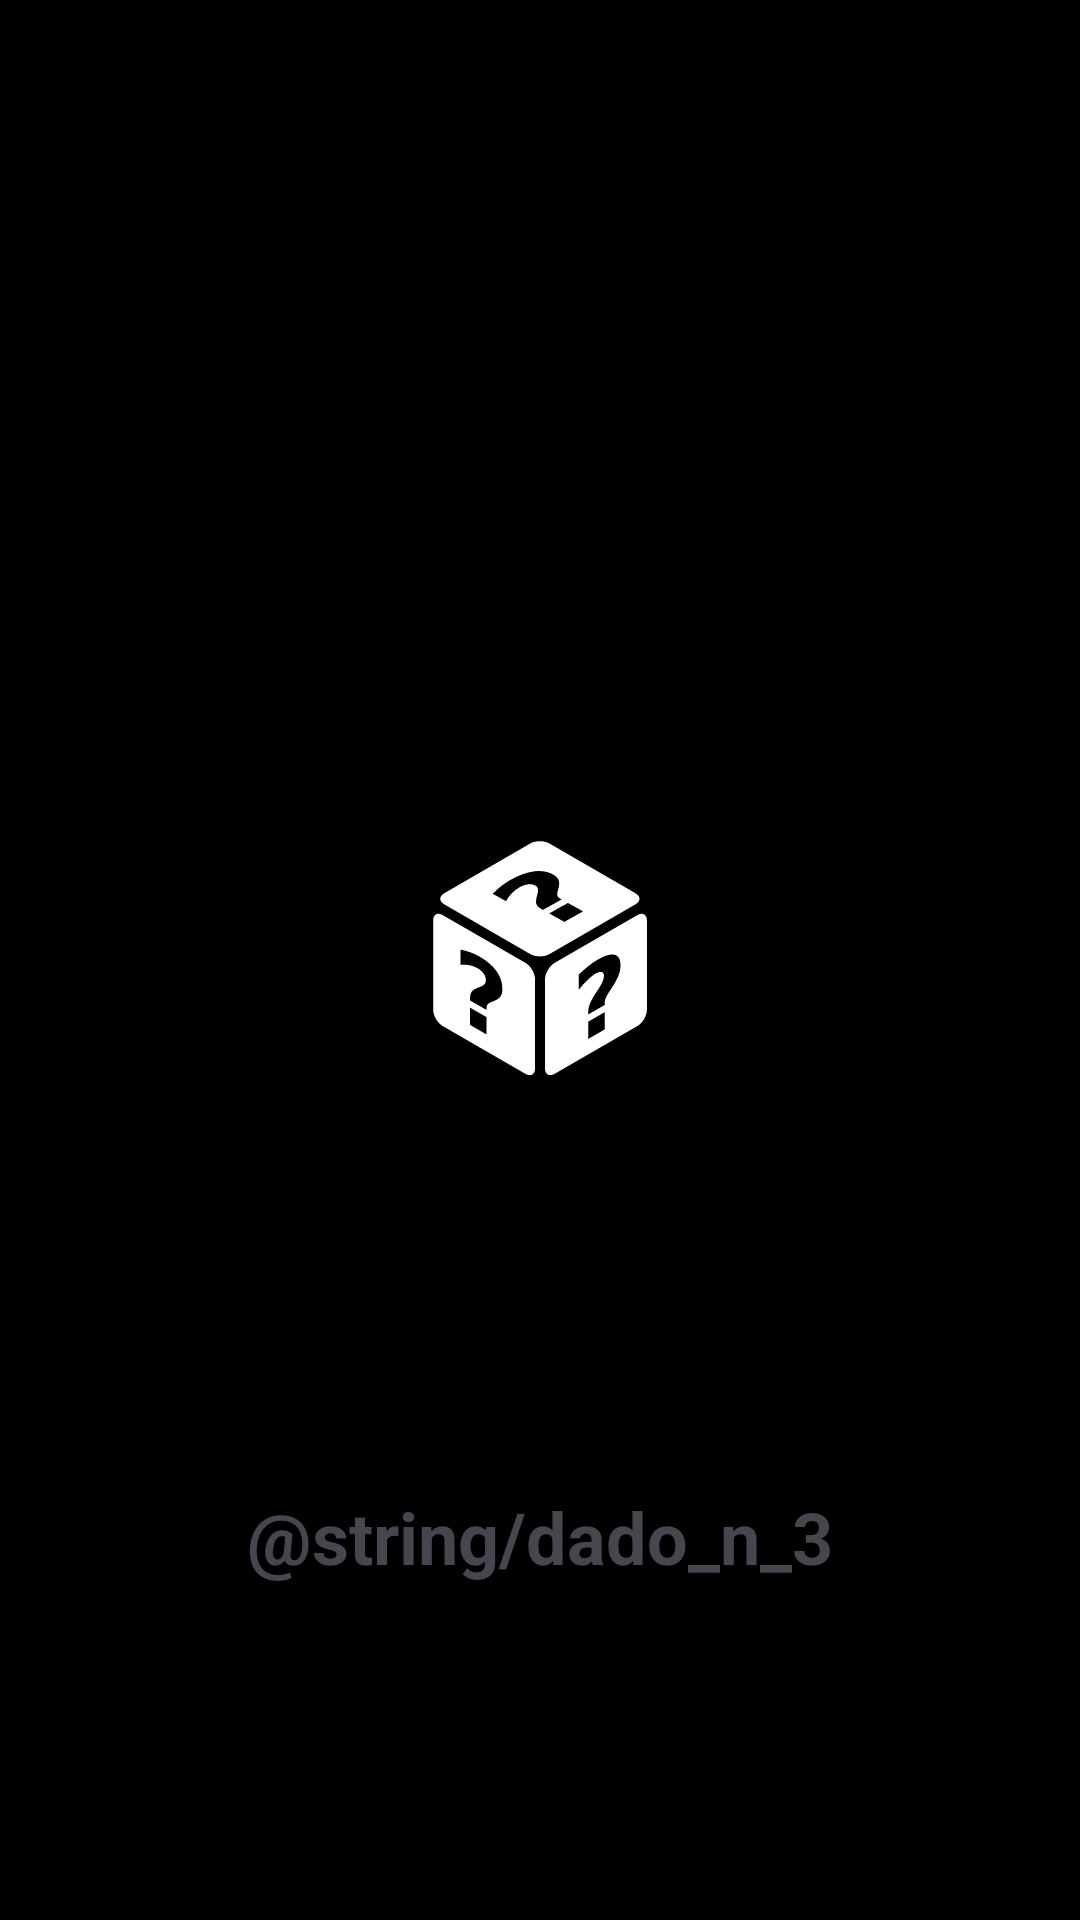

Icons on this 1080x1920 Android screen, each with its box as (x1, y1, x2, y2):
dice unknown: (433, 841, 647, 1076)
